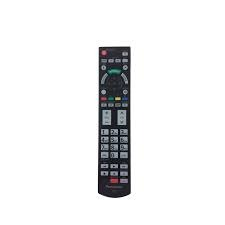remote control: (96, 42, 136, 199)
